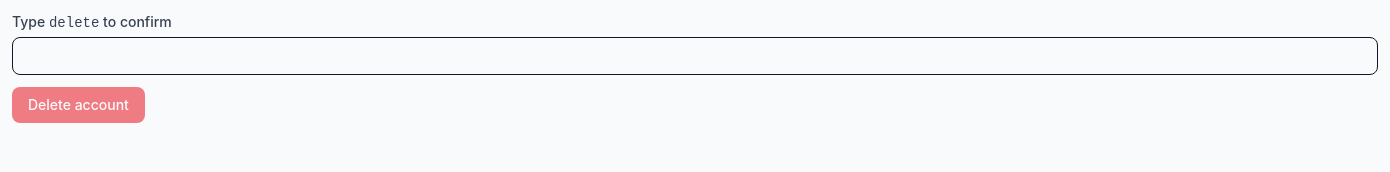
Test: DeleteConfirm › shows why deleting failed and lets it be tried again
Type "delete" into the field labelled "Type delete to confirm" at (695, 56), box left=12, top=37, right=1378, bottom=75
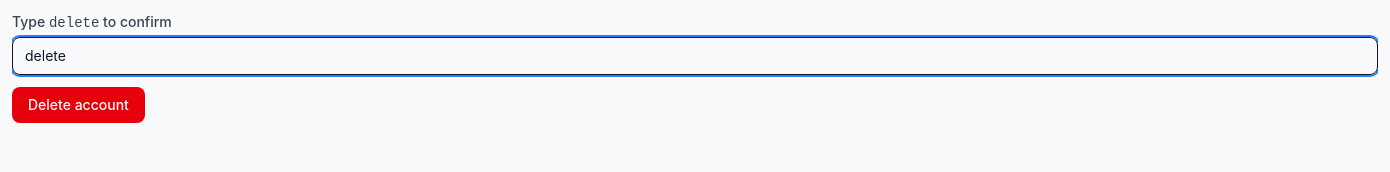
Click the button "Delete account" at (78, 105), box left=12, top=87, right=145, bottom=123
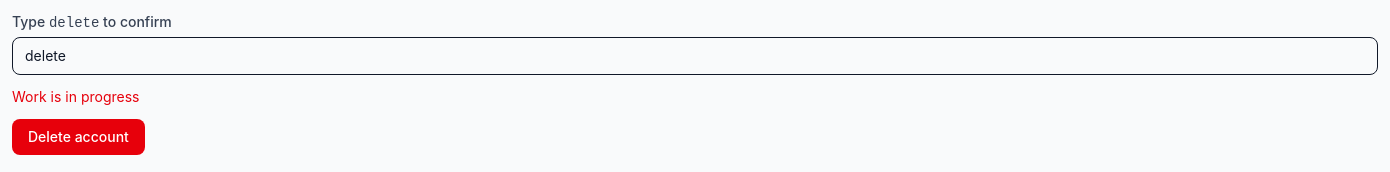
Expected: the button "Delete account" is shown, left=12, top=119, right=145, bottom=155
Now the button "Delete account" is enabled, box left=12, top=119, right=145, bottom=155
Now the text "Work is in progress" is shown, box left=12, top=88, right=140, bottom=105
